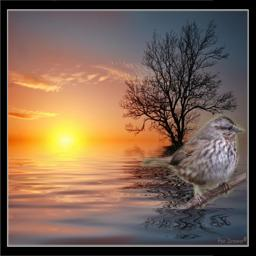Sparrow: (141, 112, 246, 209)
